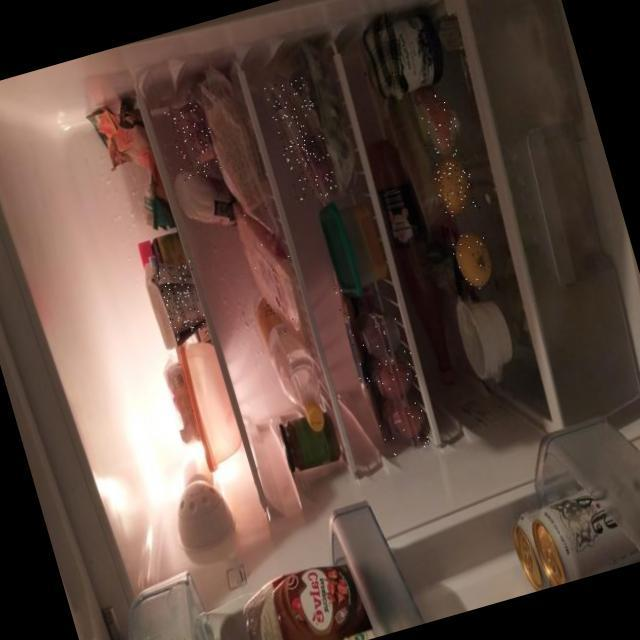Carne cerdo: (333, 284, 390, 452)
Huevos: (354, 309, 437, 456)
Queso: (233, 194, 313, 351), (410, 83, 463, 157)
Yogur: (155, 259, 210, 341)
